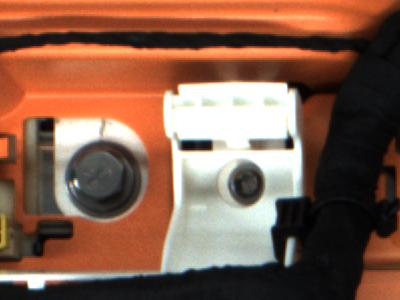nut_b: (60, 145, 146, 220)
